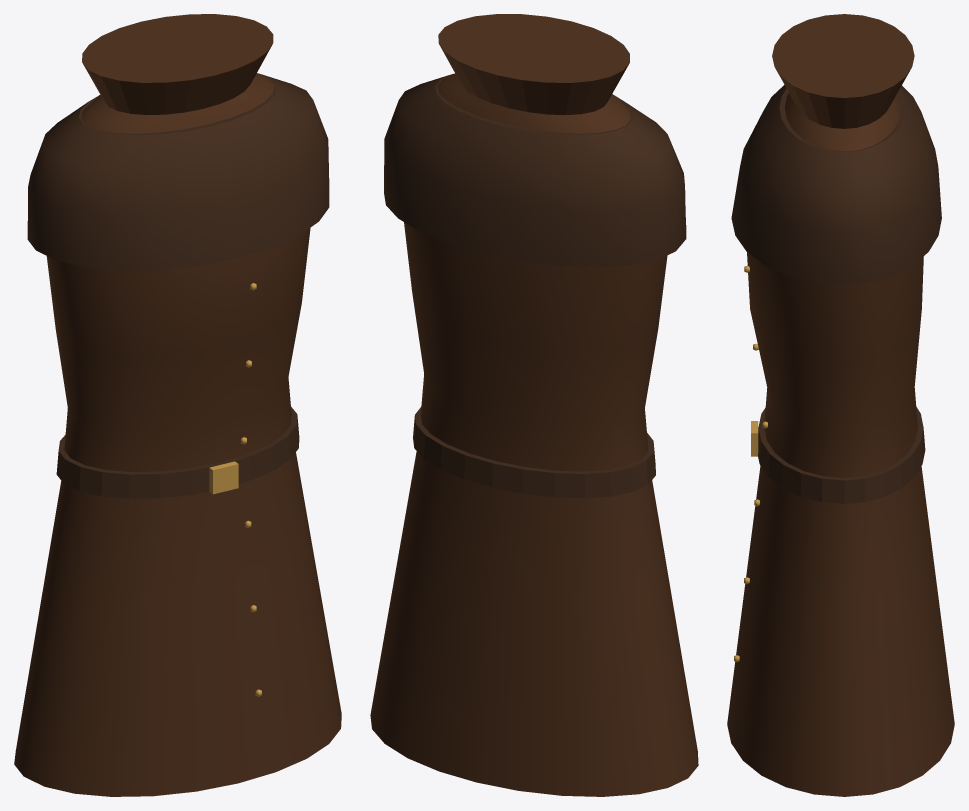
File: body_coat.glb
3 views of the same model, side by side, from view 1: azimuth 30°, elevation 25°; view 2: azimuth 150°, elevation 25°; view 3: azimuth 270°, elevation 25° (orthographic). The views are drawn at different scales.
Visible parts, largest first — view 1: Body_coat_Leather, Body_coat_Worn_leather, Body_coat_Brass; view 2: Body_coat_Leather, Body_coat_Worn_leather; view 3: Body_coat_Leather, Body_coat_Worn_leather, Body_coat_Brass.
Part boxes in pixels (x1,y1,x2,y2): Body_coat_Leather: (14,14,341,796); Body_coat_Worn_leather: (27,73,329,498); Body_coat_Brass: (209,283,261,696); Body_coat_Leather: (370,14,698,796); Body_coat_Worn_leather: (384,73,686,498); Body_coat_Leather: (727,14,954,796); Body_coat_Worn_leather: (731,85,941,503); Body_coat_Brass: (734,265,767,661).
Bounding box in the file's own units: 0.48 × 1.03 × 0.318.
